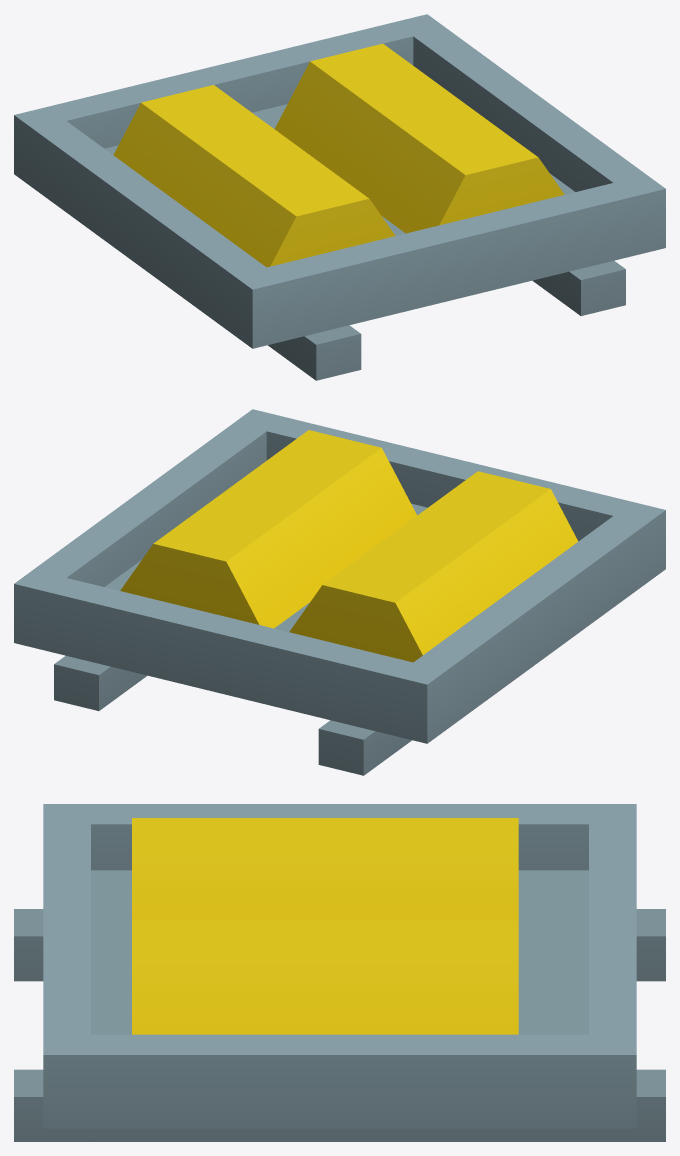
File: chest of gold.fbx
3 views of the same model, one above another, from view 1: azimuth 30°, elevation 25°; view 2: azimuth 150°, elevation 25°; view 3: azimuth 270°, elevation 25° (orthographic). The views are drawn at different scales.
Parts seen in each view (by area): view 1: chest_of_gold; view 2: chest_of_gold; view 3: chest_of_gold.
Part boxes in pixels (left/top/right/bottom): chest_of_gold: left=14, top=14, right=665, bottom=380; chest_of_gold: left=14, top=409, right=665, bottom=775; chest_of_gold: left=14, top=804, right=665, bottom=1141.
Size of the model in its own units: 200 by 56.82 by 220.
Materials: 1 (1 with a texture image).
